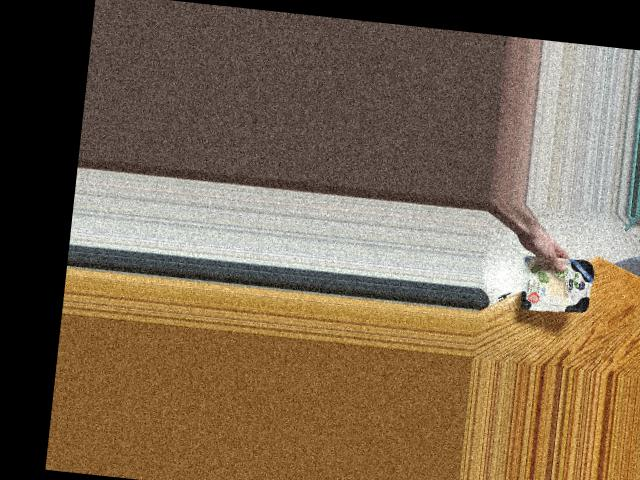cheese: (504, 250, 611, 317)
